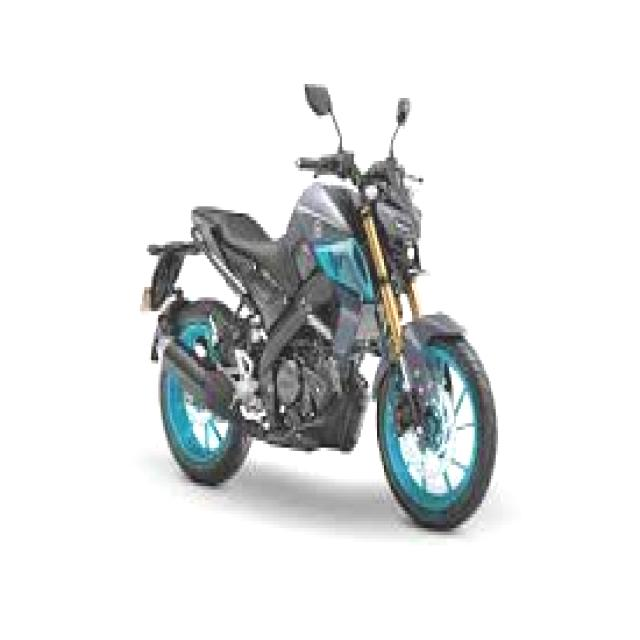MOTORCYCLE: (152, 140, 501, 527)
